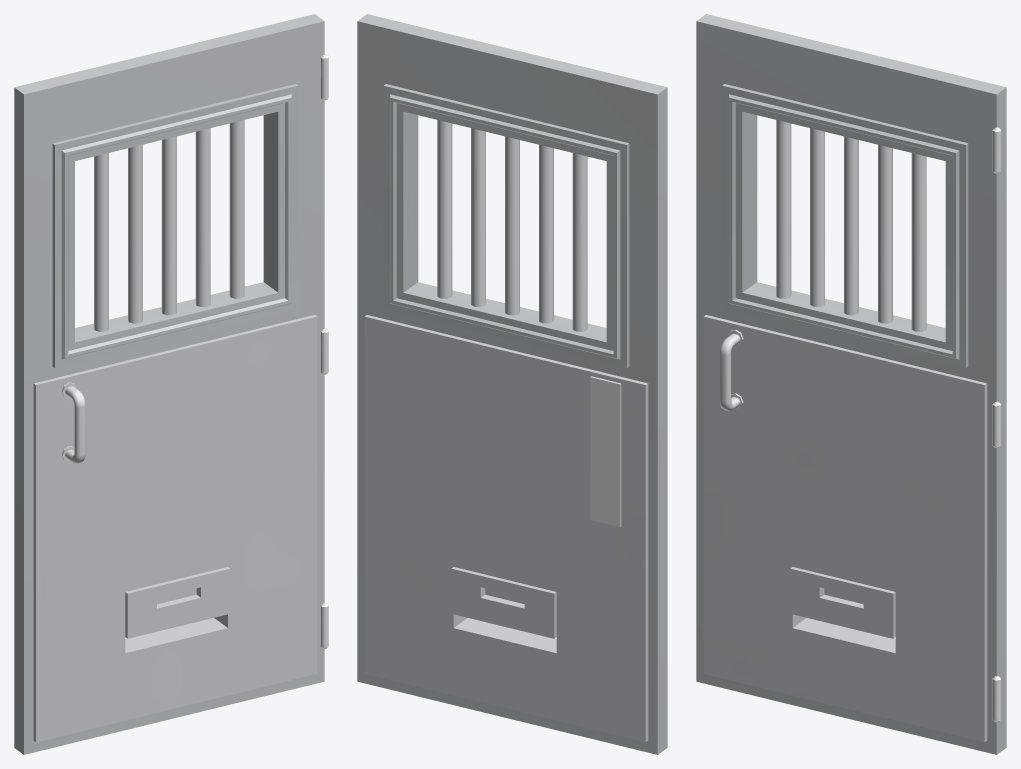
The model's file is SM_Buildings_Door_01.fbx.
3 renders of one model, left to right at view 1: azimuth 30°, elevation 25°; view 2: azimuth 150°, elevation 25°; view 3: azimuth 330°, elevation 25°, orthographic.
Visible parts, largest first — view 1: SM_Buildings_Door_01; view 2: SM_Buildings_Door_01; view 3: SM_Buildings_Door_01.
Boxes of the visible parts, box(x1,y1,x2,y2) form: SM_Buildings_Door_01: box(14, 14, 328, 754); SM_Buildings_Door_01: box(357, 14, 667, 754); SM_Buildings_Door_01: box(696, 14, 1006, 754).
Bounding box in the file's own units: 101 × 210 × 17.51.
Materials: 1 (1 with a texture image).
